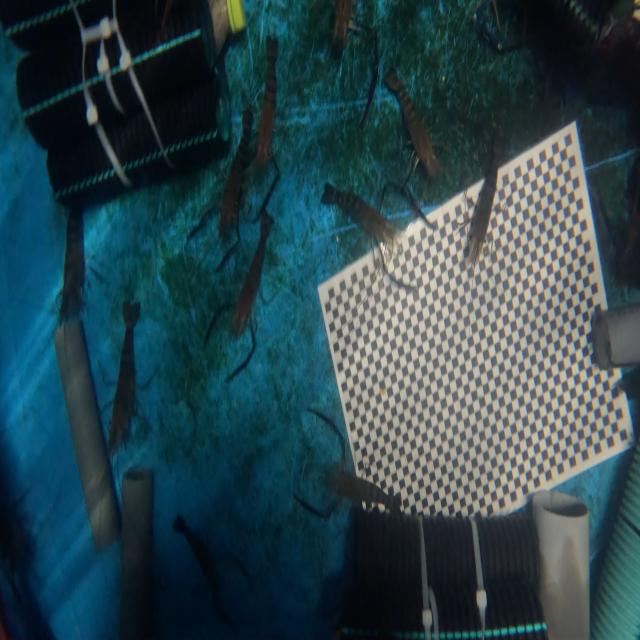prawn: (233, 169, 279, 330), (384, 71, 438, 177), (173, 516, 225, 619), (219, 109, 255, 239), (109, 303, 139, 451), (322, 185, 397, 244), (253, 37, 277, 171), (328, 470, 401, 512), (468, 166, 495, 259)
